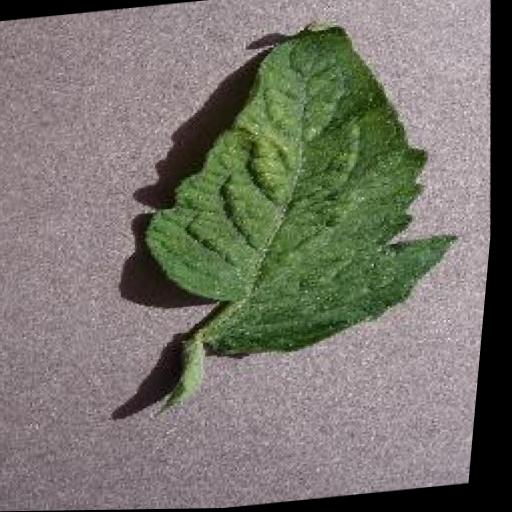Spider Mites: (126, 8, 485, 367)
